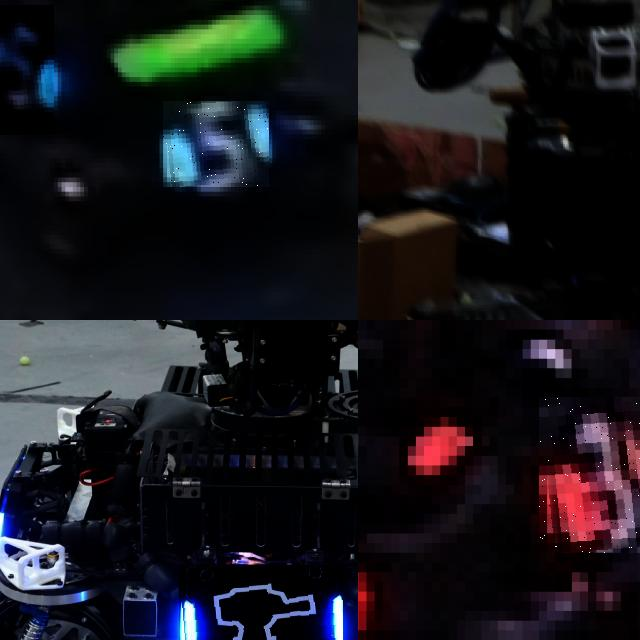B5: (163, 101, 269, 187), (0, 5, 54, 134)
Bs: (178, 564, 343, 640)
R3: (539, 397, 640, 552)
